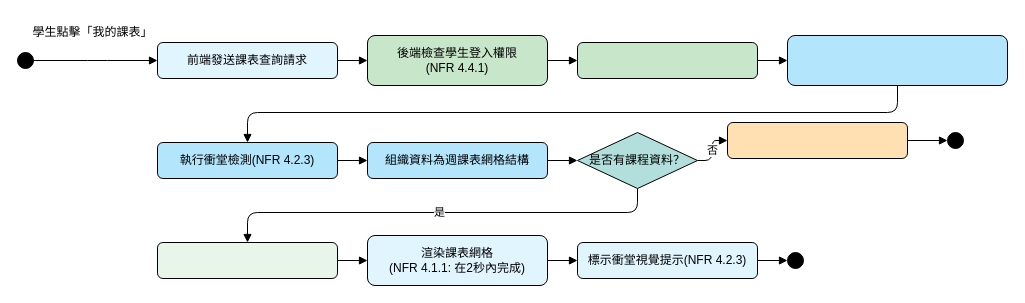
Image size: 1025x303. Some labels were removed from this diagram. Each missing label, with the box of its shape:
整合課程詳細資訊 (AC2: 名稱、老師、教室等): (786, 34, 1008, 86)
讀取學生的選課紀錄: (576, 42, 758, 78)
返回「無選課資料」提示: (726, 122, 908, 158)
返回週課表資料 (前端接收): (156, 242, 338, 278)
